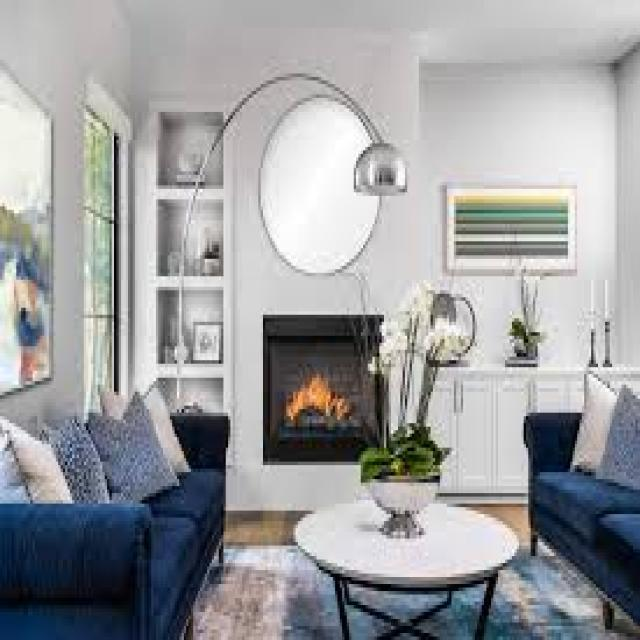Lamp: (172, 53, 413, 244)
Sofa: (2, 352, 218, 640), (516, 363, 640, 626)
Table: (296, 492, 520, 640)
